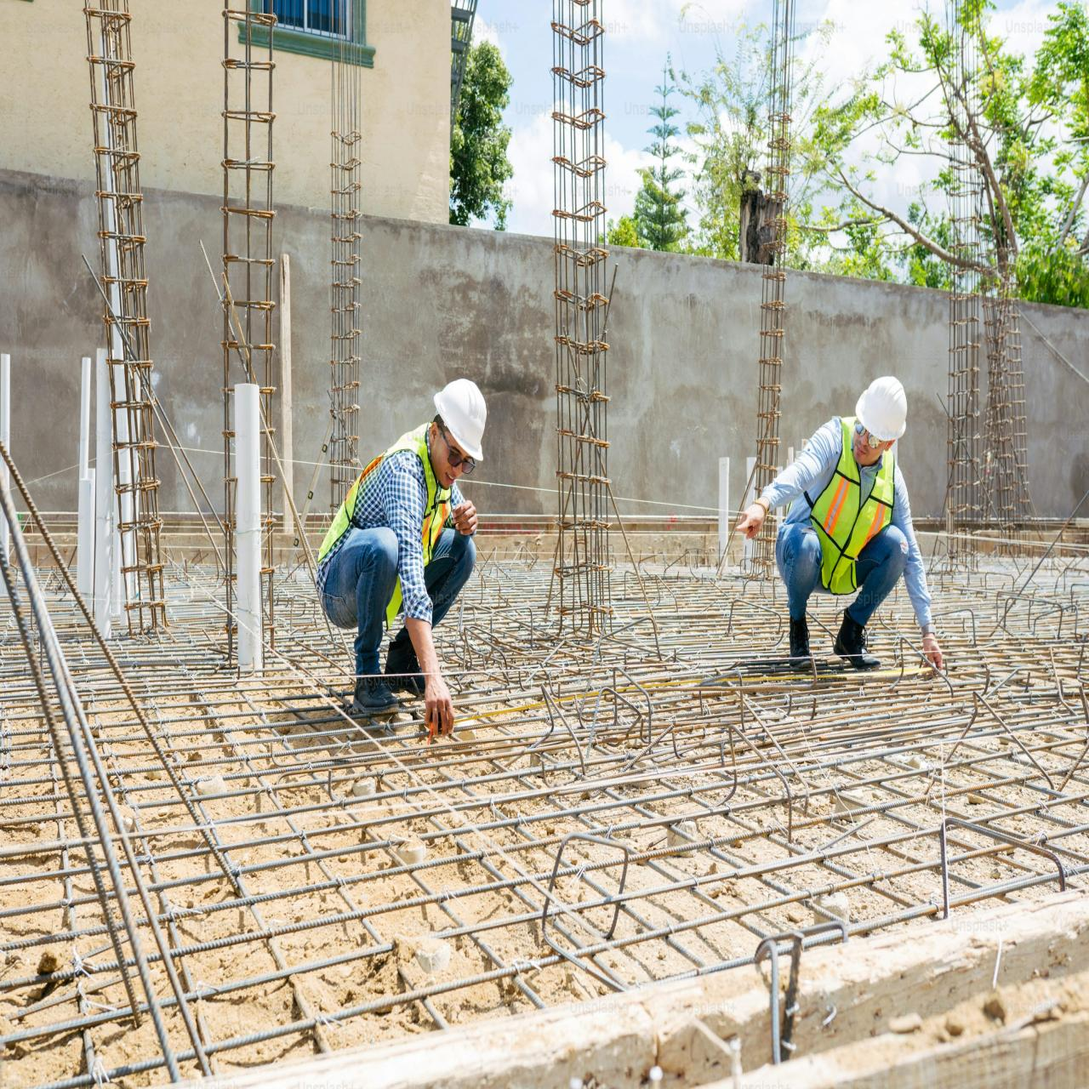Person: (312, 334, 518, 764), (737, 359, 942, 675)
Safety_Vest: (316, 416, 456, 652), (796, 420, 896, 608)
